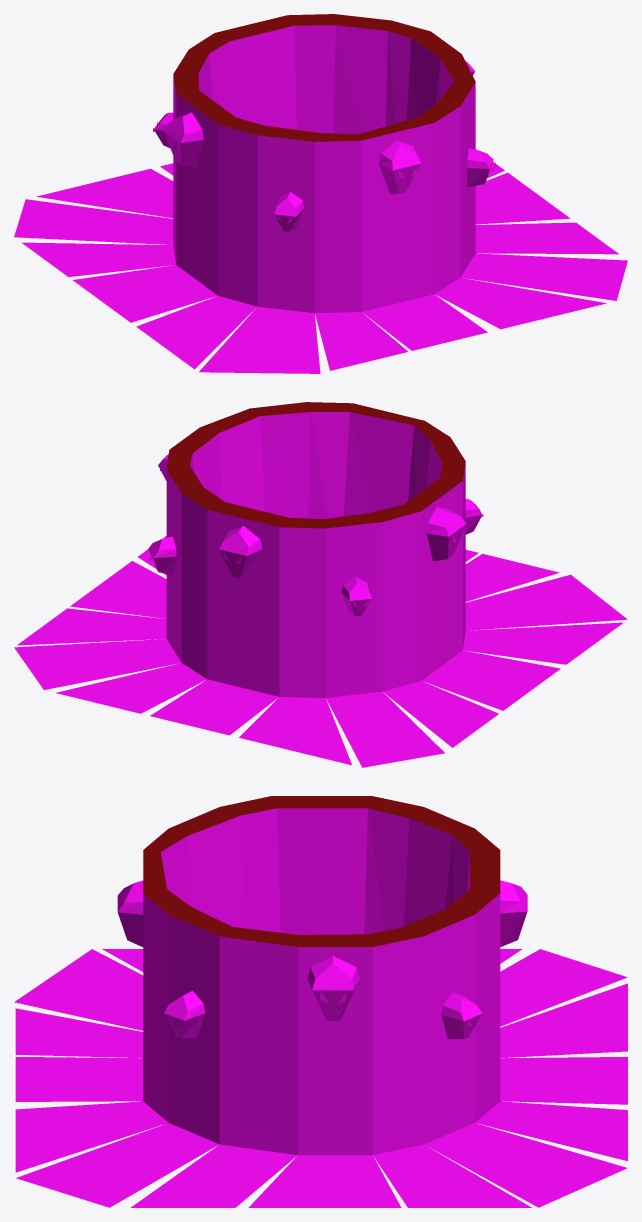
File: cave bloodwell.obj
3 renders of one model, top to bottom at view 1: azimuth 30°, elevation 25°; view 2: azimuth 150°, elevation 25°; view 3: azimuth 270°, elevation 25°, orthographic. The views are drawn at different scales.
Parts seen in each view (by area): view 1: cave bloodwell_back; view 2: cave bloodwell_back; view 3: cave bloodwell_back.
Boxes of the visible parts, x1,y1,x2,y2 form: cave bloodwell_back: (14, 14, 627, 373); cave bloodwell_back: (14, 402, 627, 767); cave bloodwell_back: (14, 796, 627, 1207).
Size of the model in its own units: 3.84 by 1.44 by 3.85.
